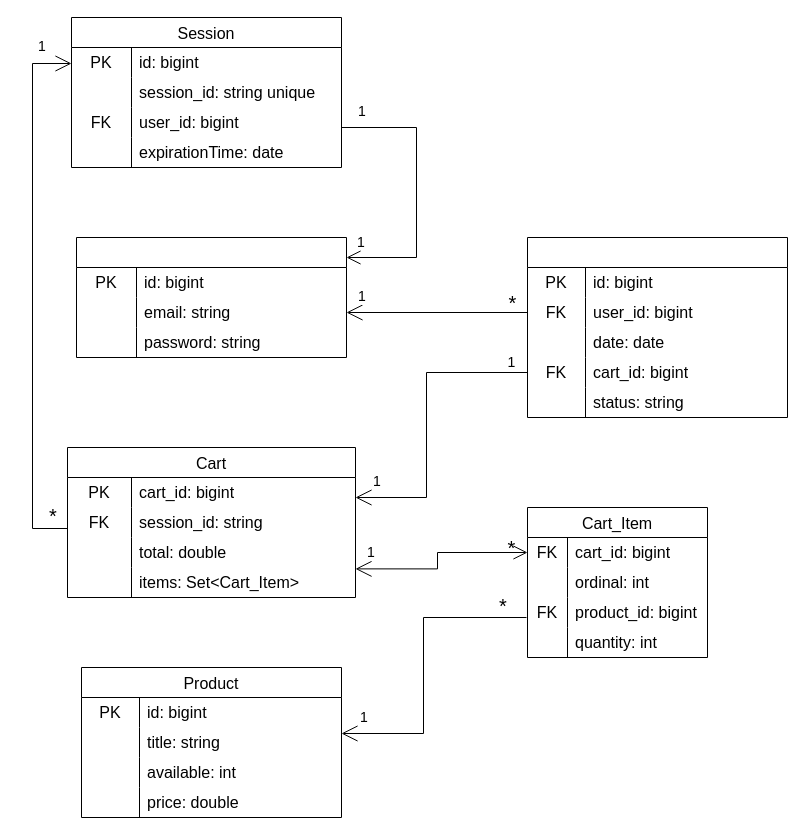
Image size: 805x835. Some labels were removed from this diagram. Each missing label, with the box of its shape:
Order: (526, 236, 788, 418)
User: (76, 236, 346, 358)
